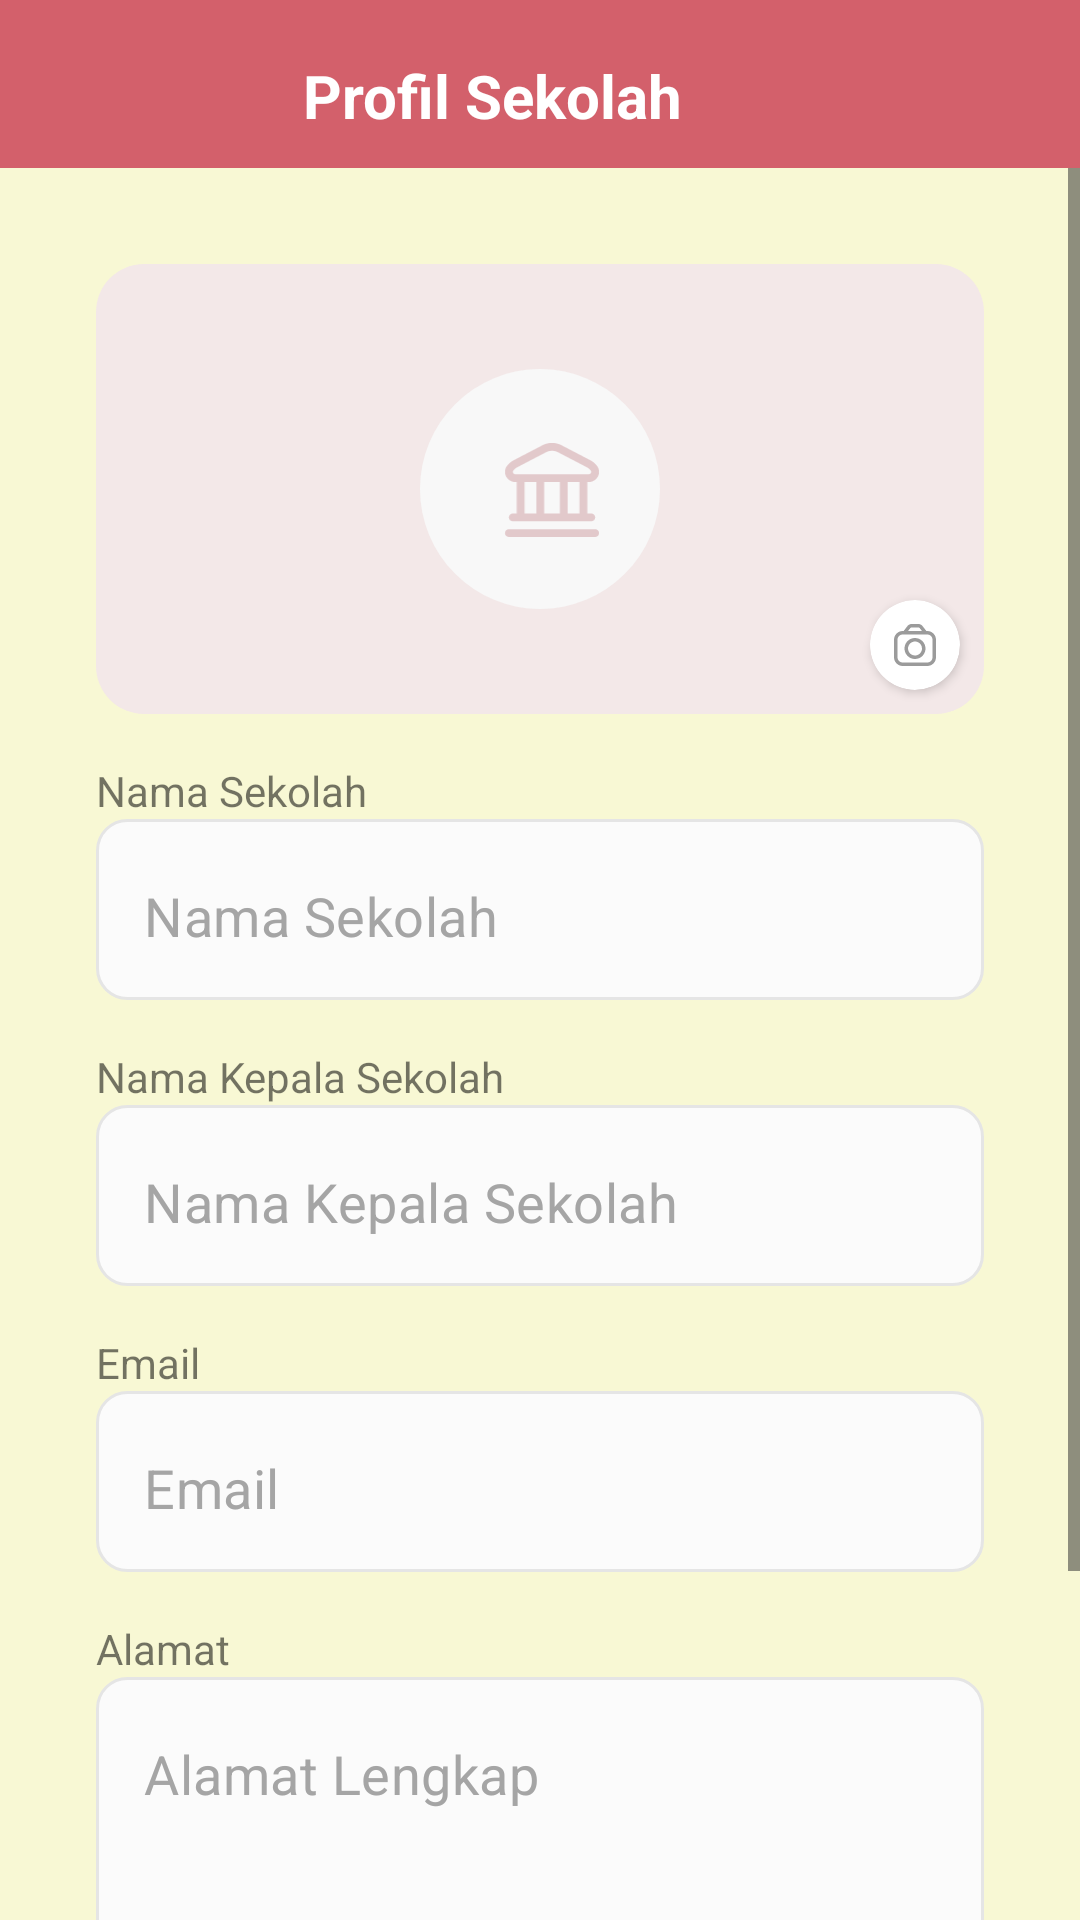

Where icons sit on this 1080×1920 app screen, as (x1, y1, x2, y2):
camera: (894, 624, 936, 666)
school: (420, 369, 660, 609)
